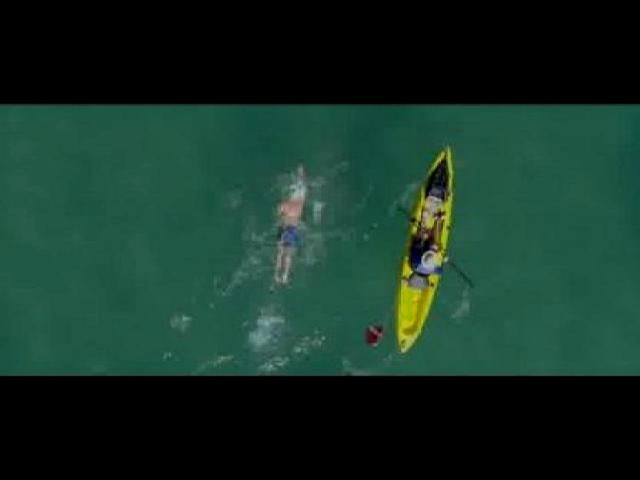swimming: (269, 166, 311, 286)
